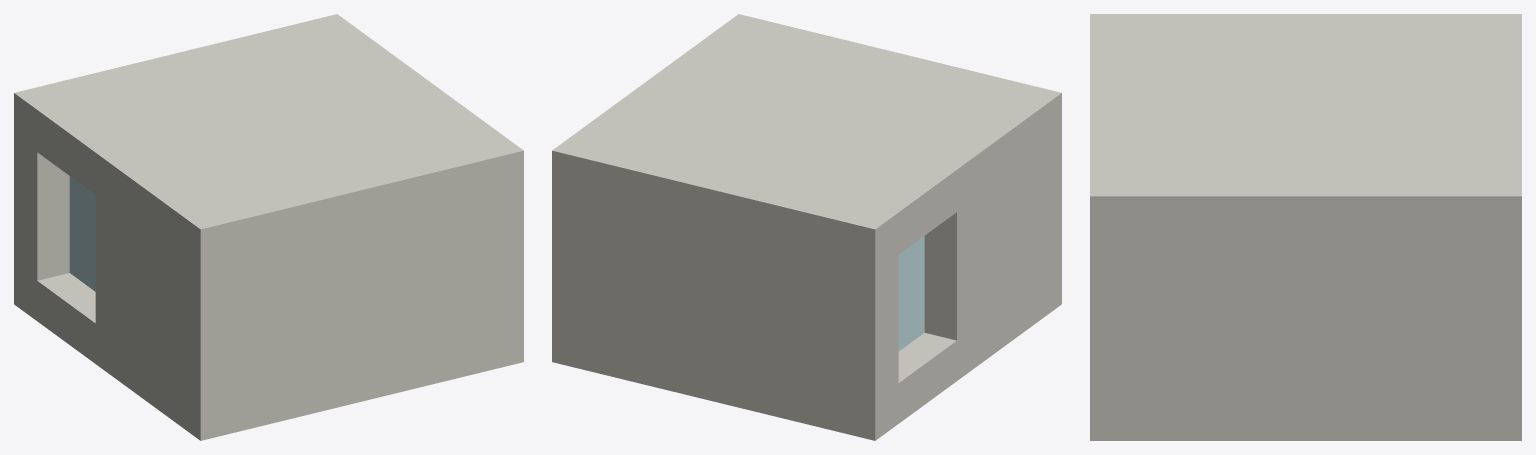
Rendered from building_053.glb.
3 views of the same model, side by side, from view 1: azimuth 30°, elevation 25°; view 2: azimuth 150°, elevation 25°; view 3: azimuth 270°, elevation 25° (orthographic). The views are drawn at different scales.
Parts seen in each view (by area): view 1: building_053; view 2: building_053; view 3: building_053.
Boxes of the visible parts, x1,y1,x2,y2 form: building_053: (14,14,523,440); building_053: (552,14,1061,440); building_053: (1090,14,1521,440).
Size of the model in its own units: 1 by 0.625 by 1.
